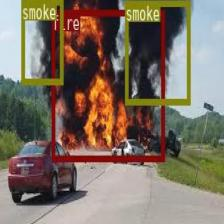fire: (51, 9, 164, 160)
smoke: (124, 0, 190, 104), (20, 0, 62, 84)
